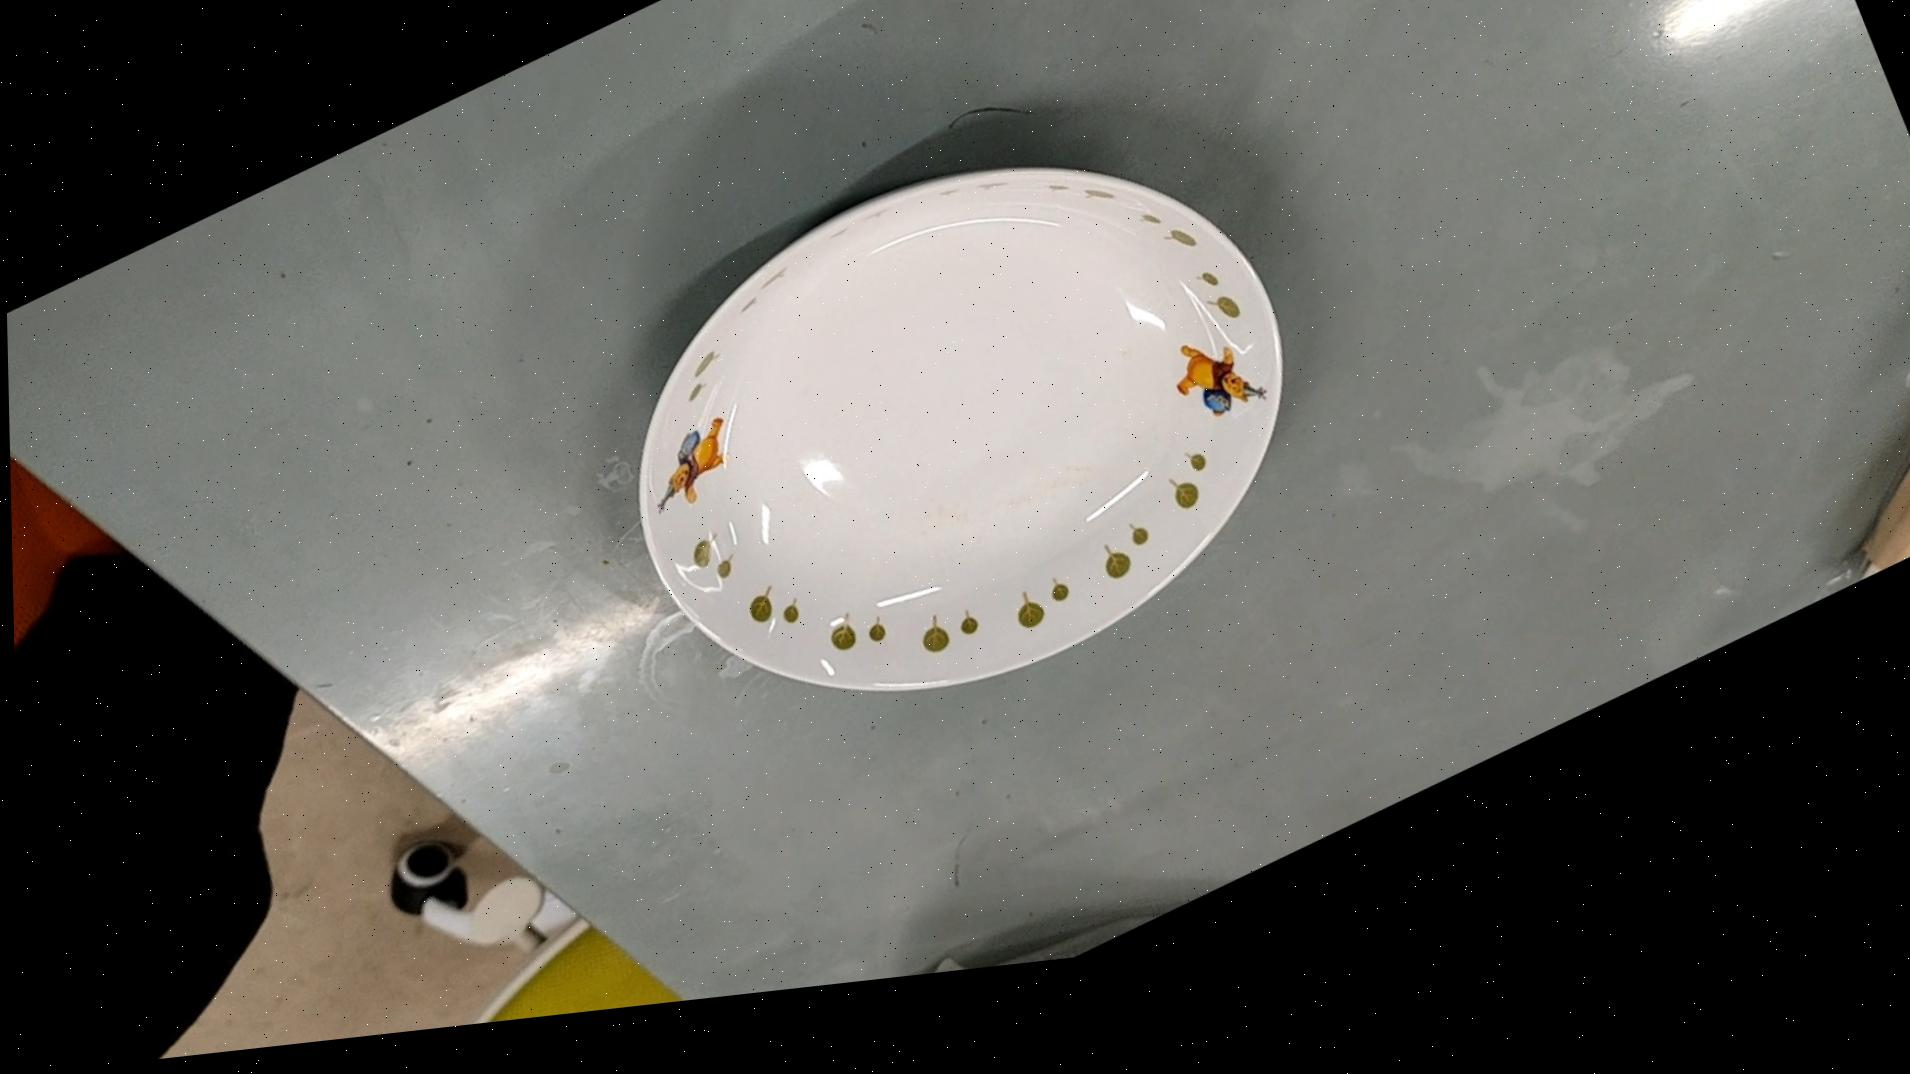plate: (561, 72, 1356, 837)
